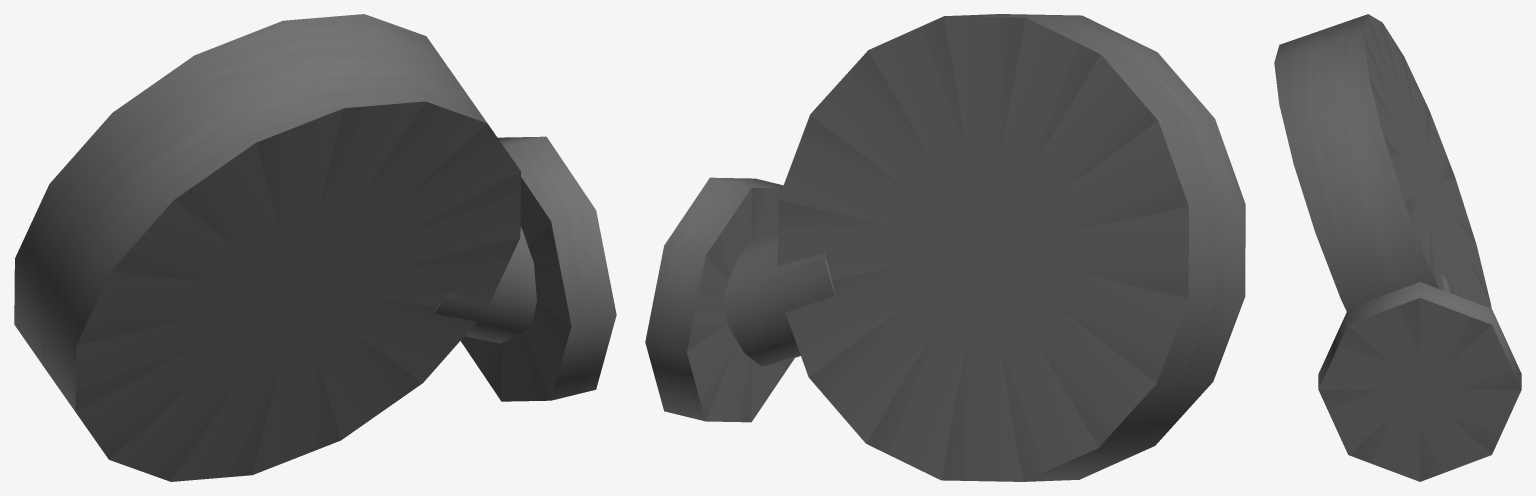
The model's file is mastarmcurve_10x2_c0_east.obj.
3 views of the same model, side by side, from view 1: azimuth 30°, elevation 25°; view 2: azimuth 150°, elevation 25°; view 3: azimuth 270°, elevation 25° (orthographic). The views are drawn at different scales.
Parts seen in each view (by area): view 1: mastarm_10x2_c0_east; view 2: mastarm_10x2_c0_east; view 3: mastarm_10x2_c0_east.
Boxes of the visible parts, x1=… form: mastarm_10x2_c0_east: x1=14, y1=14, x2=616, y2=481; mastarm_10x2_c0_east: x1=645, y1=14, x2=1245, y2=481; mastarm_10x2_c0_east: x1=1274, y1=14, x2=1521, y2=481.
Size of the model in its own units: 0.8654 by 0.7508 by 0.487.
